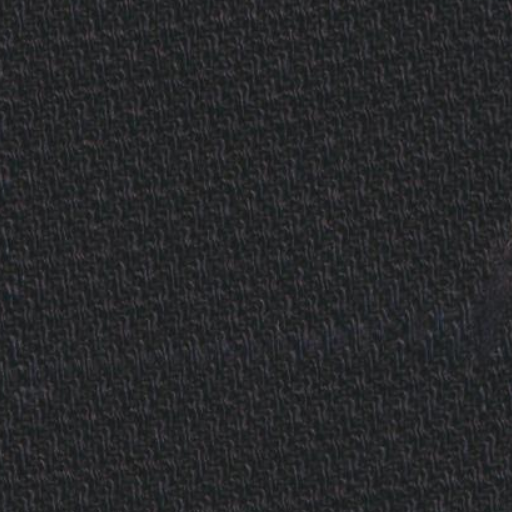DaiSha: (37, 330, 476, 398)
